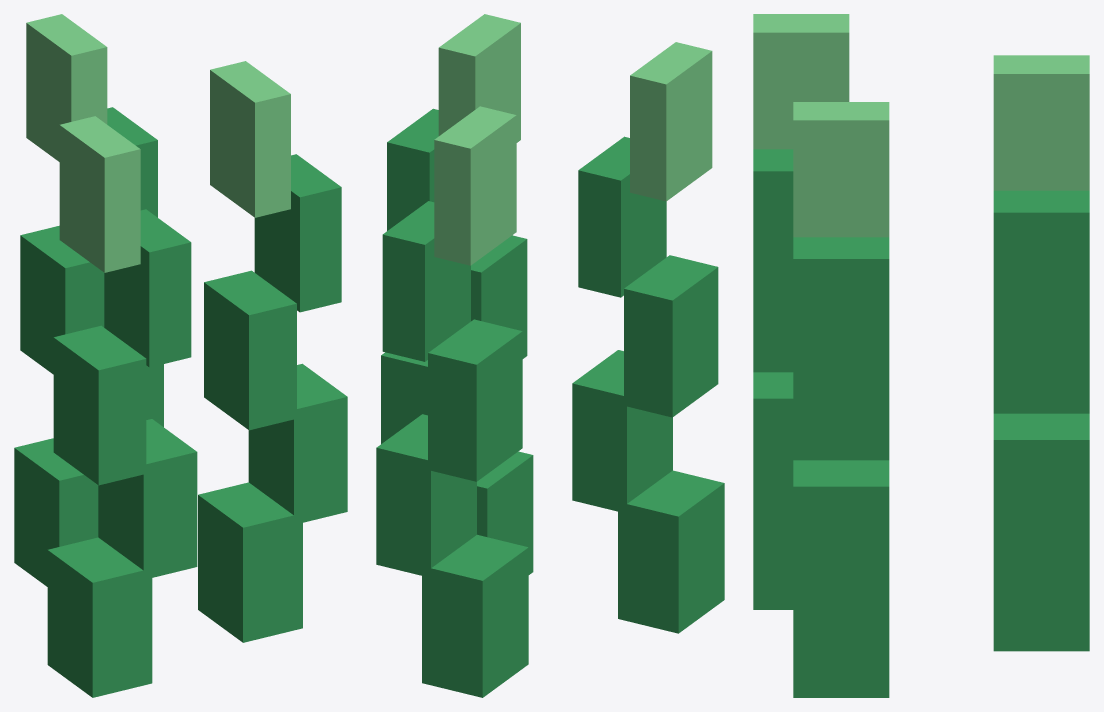
File: env_r15_kelp_clump.glb
3 renders of one model, left to right at view 1: azimuth 30°, elevation 25°; view 2: azimuth 150°, elevation 25°; view 3: azimuth 270°, elevation 25°, orthographic. The views are drawn at different scales.
Parts seen in each view (by area): view 1: env_r15_kelp_clump; view 2: env_r15_kelp_clump; view 3: env_r15_kelp_clump.
Part boxes in pixels (x1,y1,x2,y2): env_r15_kelp_clump: [14, 14, 347, 697]; env_r15_kelp_clump: [376, 14, 724, 697]; env_r15_kelp_clump: [753, 14, 1089, 697].
Bounding box in the file's own units: 1.6 × 3 × 1.6.
Materials: 1 (1 with a texture image).
